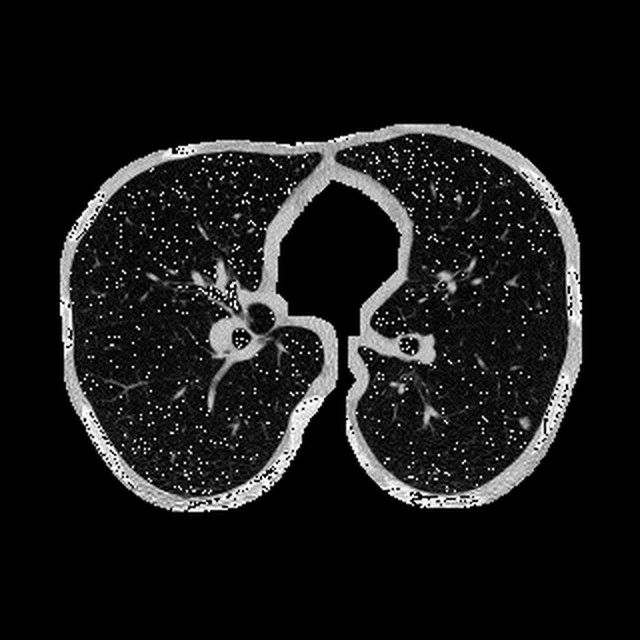PN: (520, 418, 528, 426)
